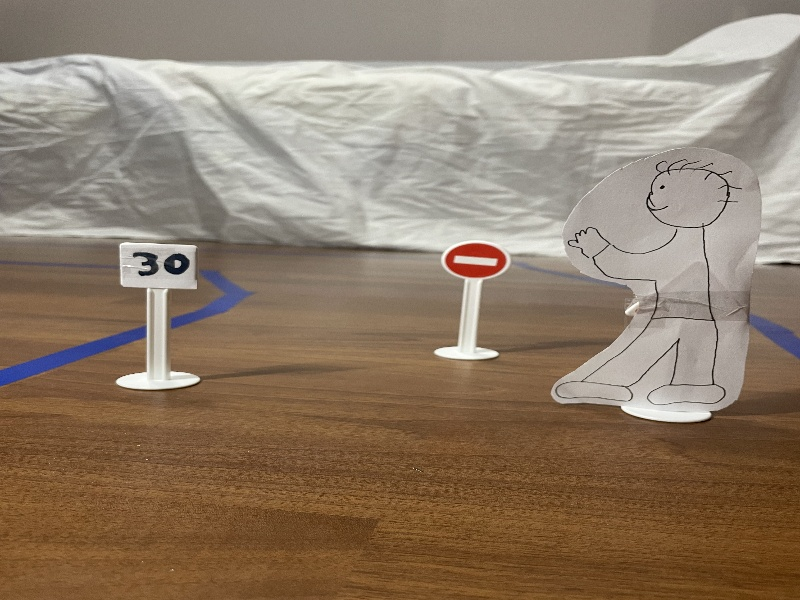interzis: (443, 233, 514, 291)
persoana: (546, 144, 766, 439)
viteza_limita_30: (114, 234, 209, 296)
